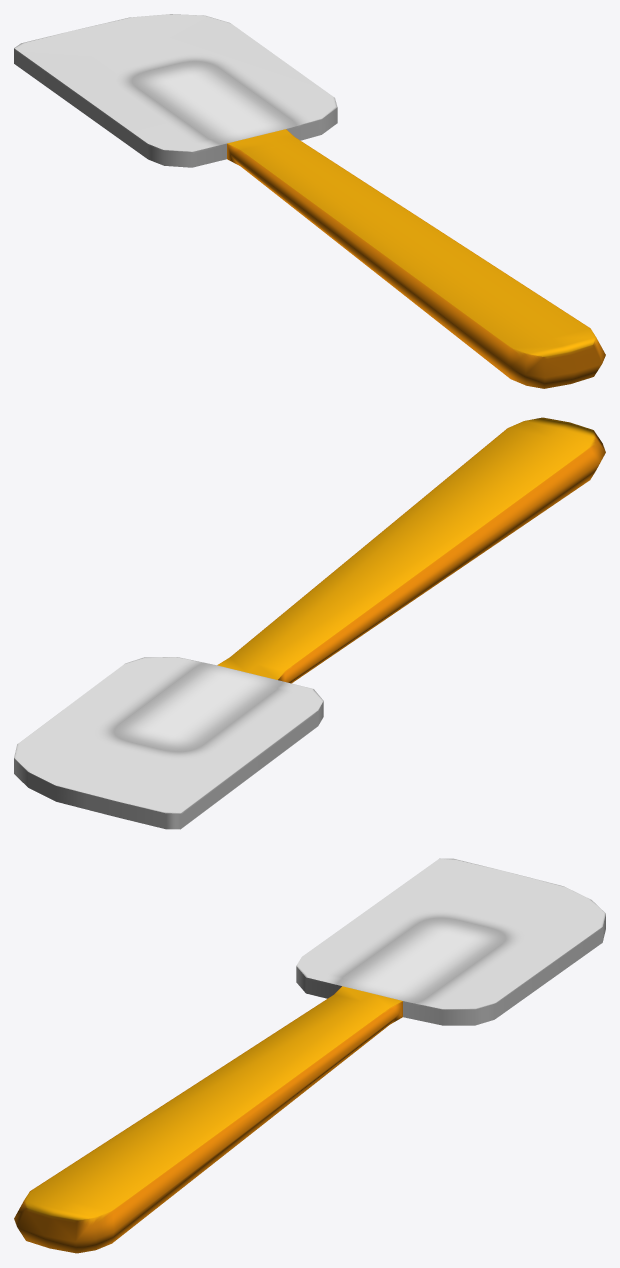
Rendered from Spatula_02.fbx.
3 views of the same model, one above another, from view 1: azimuth 30°, elevation 25°; view 2: azimuth 150°, elevation 25°; view 3: azimuth 330°, elevation 25° (orthographic). The views are drawn at different scales.
Parts seen in each view (by area): view 1: Spatula_02; view 2: Spatula_02; view 3: Spatula_02.
Part boxes in pixels (left/top/right/bottom): Spatula_02: left=14, top=14, right=605, bottom=388; Spatula_02: left=14, top=417, right=605, bottom=829; Spatula_02: left=14, top=858, right=605, bottom=1253.
Bounding box in the file's own units: 22.81 × 3.72 × 100.
